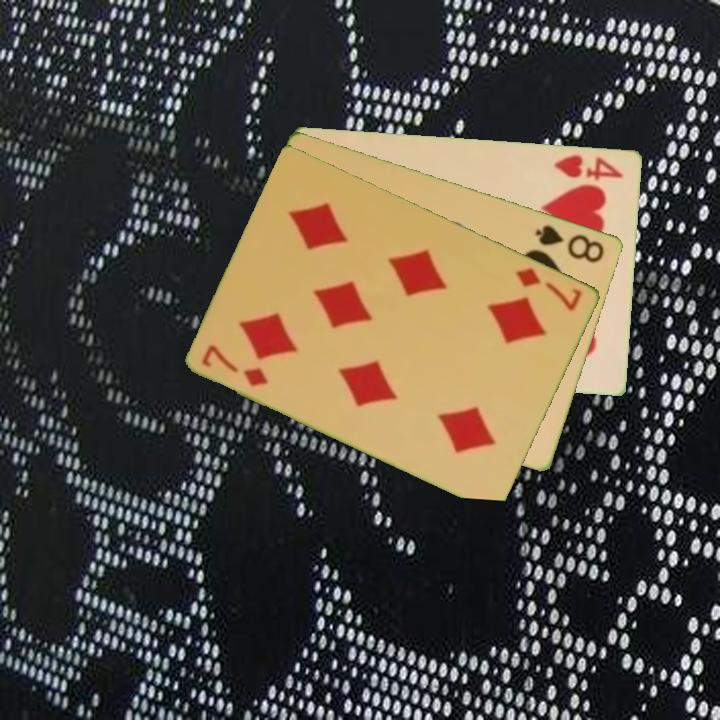4h: (551, 150, 627, 183)
7d: (513, 263, 586, 314), (198, 340, 272, 390)
8s: (532, 220, 608, 266)
